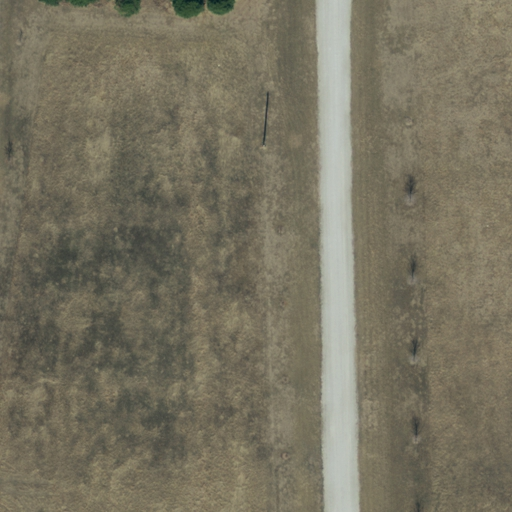DT: (245, 131, 283, 164)
